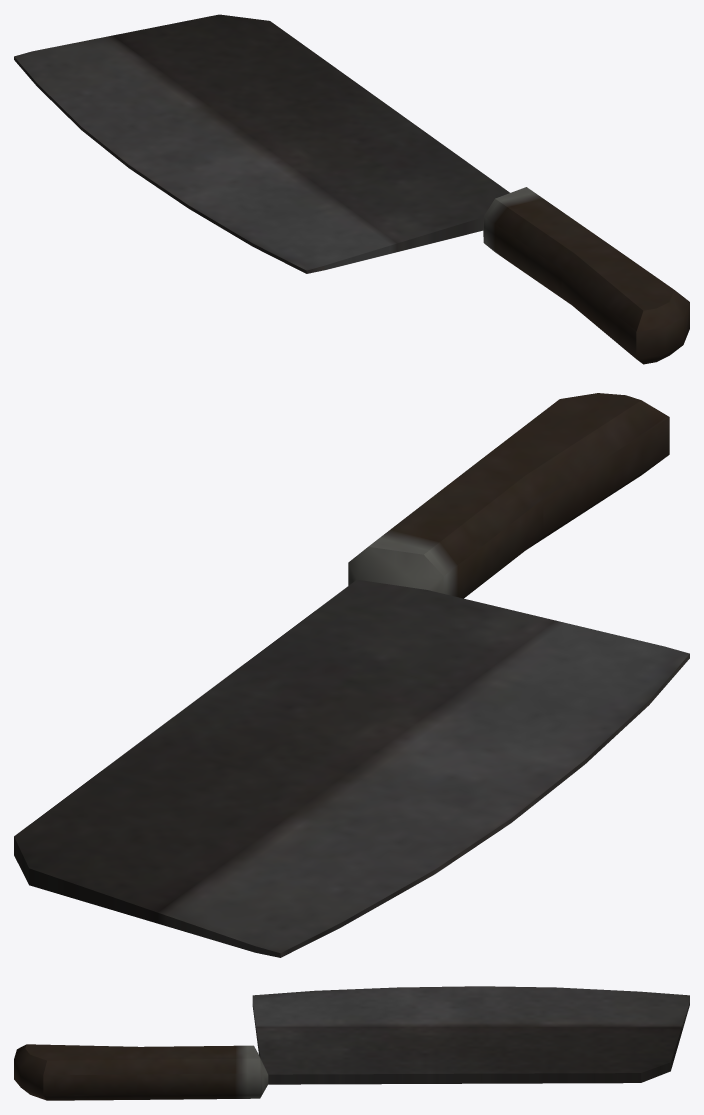
The model's file is butcher_knife_mp_1.obj.
3 renders of one model, top to bottom at view 1: azimuth 30°, elevation 25°; view 2: azimuth 150°, elevation 25°; view 3: azimuth 270°, elevation 25°, orthographic. The views are drawn at different scales.
Parts seen in each view (by area): view 1: butcher_knife_mp_1; view 2: butcher_knife_mp_1; view 3: butcher_knife_mp_1.
Part boxes in pixels (box(x1,y1,x2,y2)): butcher_knife_mp_1: box(14, 14, 689, 364); butcher_knife_mp_1: box(14, 393, 689, 957); butcher_knife_mp_1: box(14, 986, 689, 1100).
Bounding box in the file's own units: 0.1746 × 0.0334 × 0.5095.
